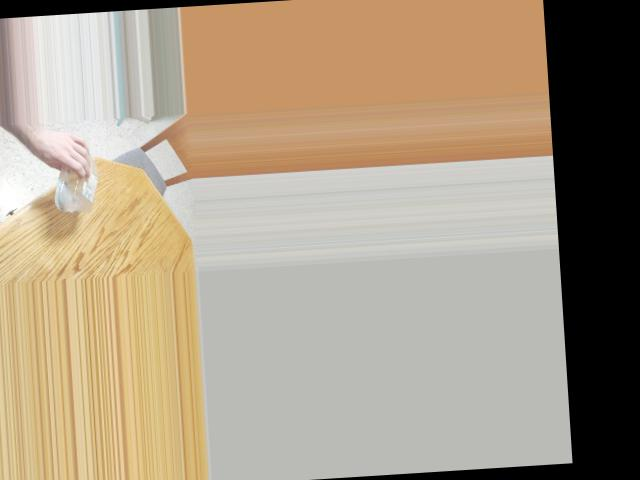cheese: (45, 136, 101, 202)
